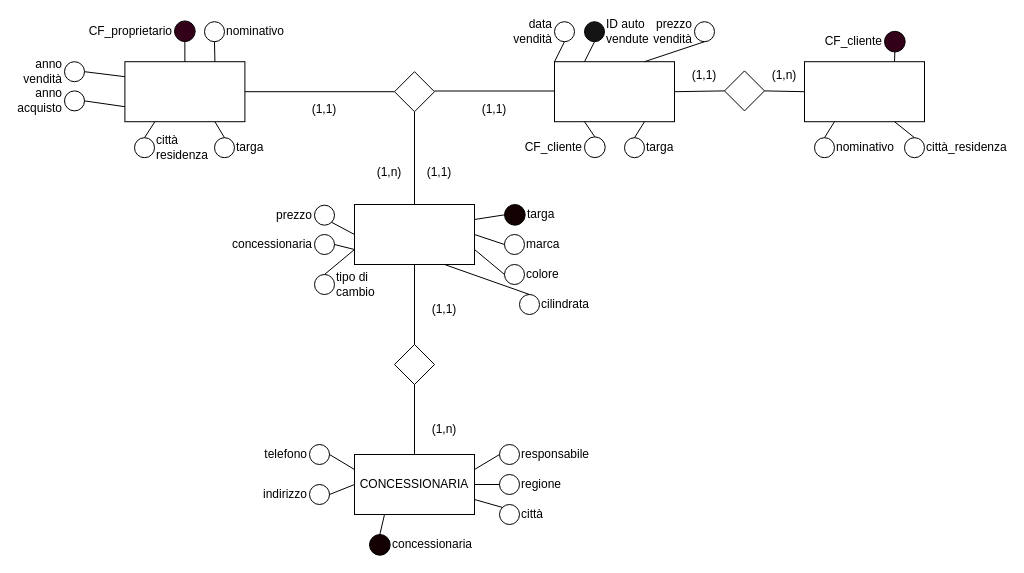
This 1024x573 diagram has some shape labels left out. The box of each missing label's shape, as (x1, y1, x2, y2) in pixels:
AUTO: (354, 204, 474, 264)
AUTO_VENDUTE: (554, 61, 674, 122)
CLIENTE: (804, 61, 924, 122)
PROPRIETARIO: (124, 61, 245, 122)
